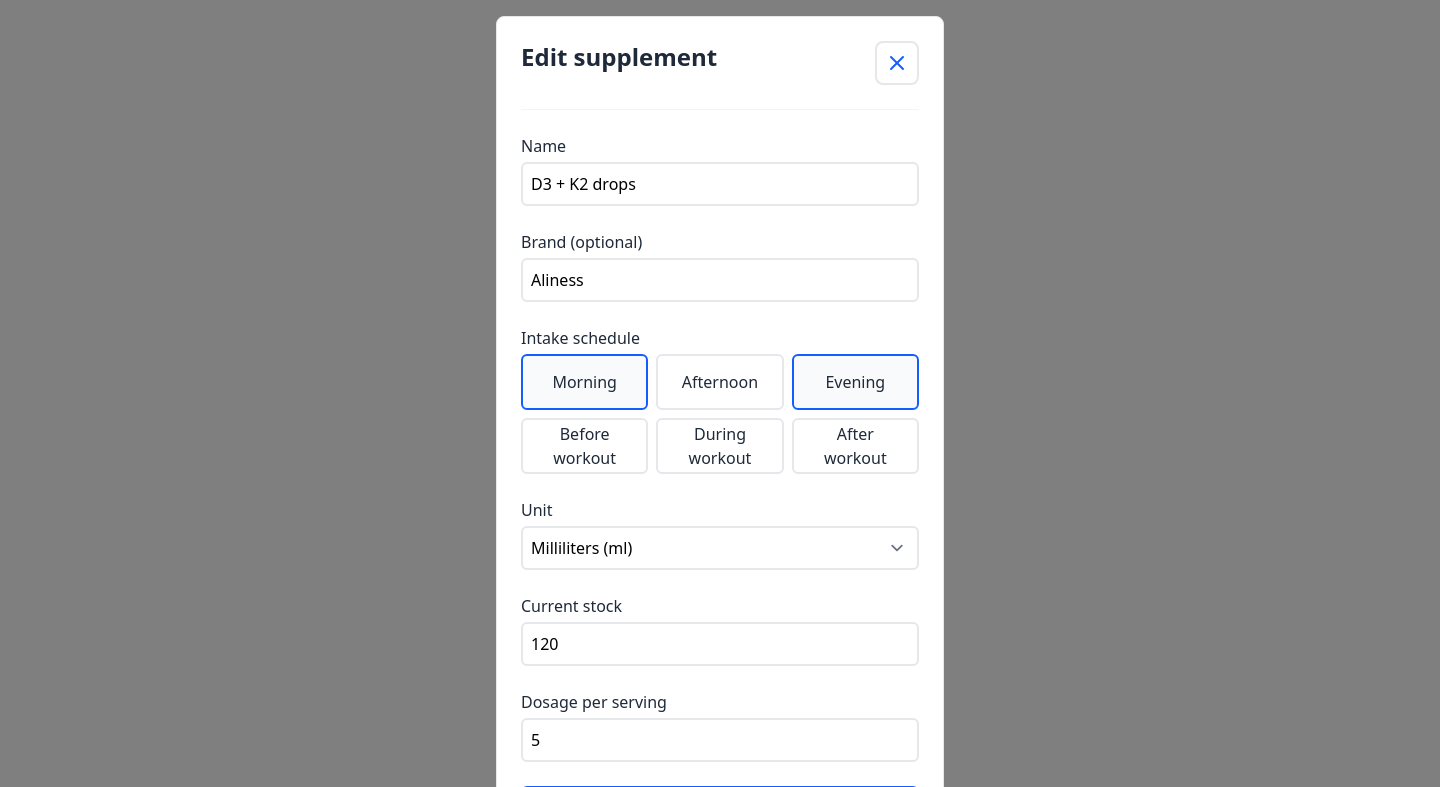
Scenario: SupplementFormModal › displays an error message when submitting with a negative current stock
Note: using fireEvent, because of the min attribue of the input restricts typing it in as a user
Replace the text in the number field labelled "Current stock" with "-10". click: (720, 644)
box: [521,622,919,666]
(page scrolled)
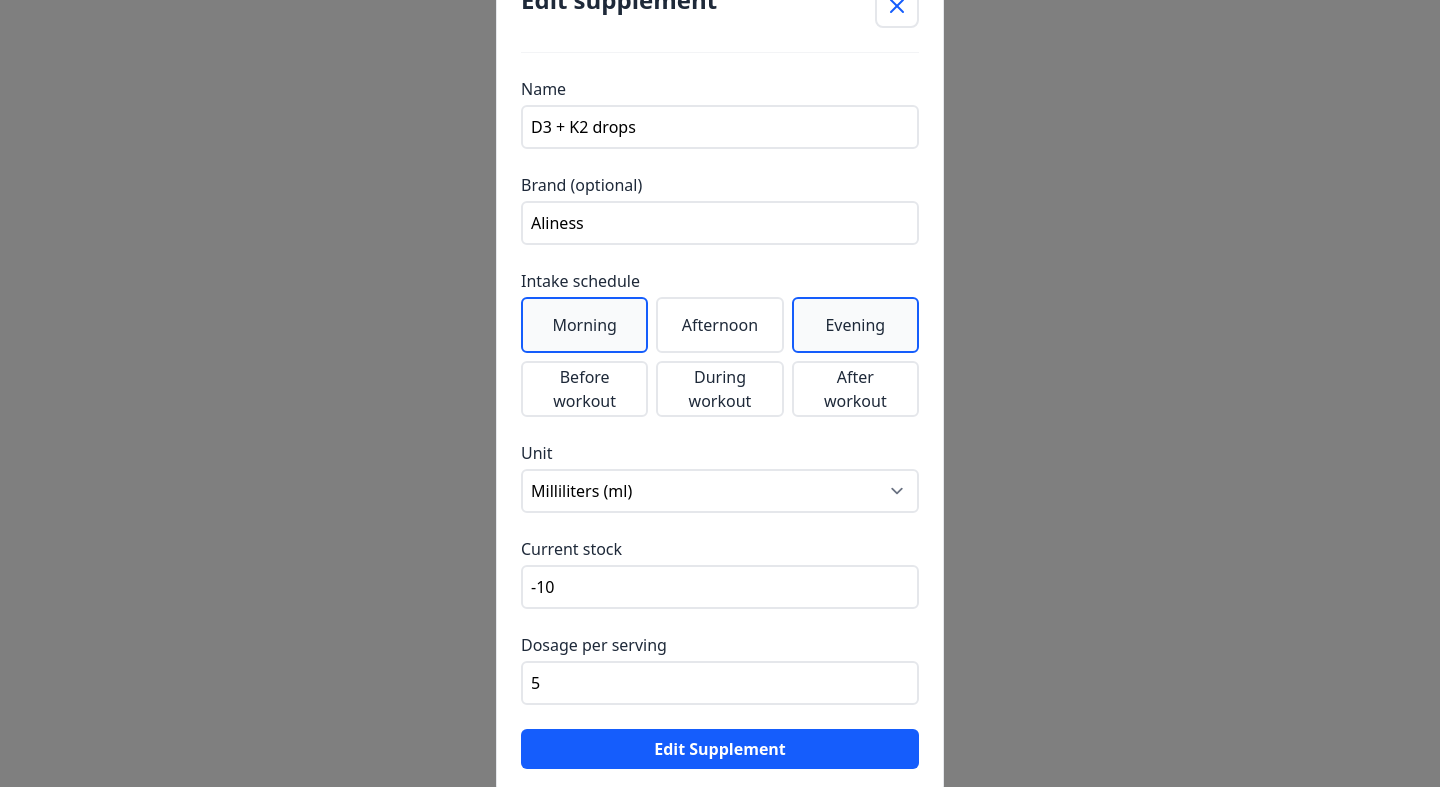
Submit the form named "current stock", box [521,77,919,769]
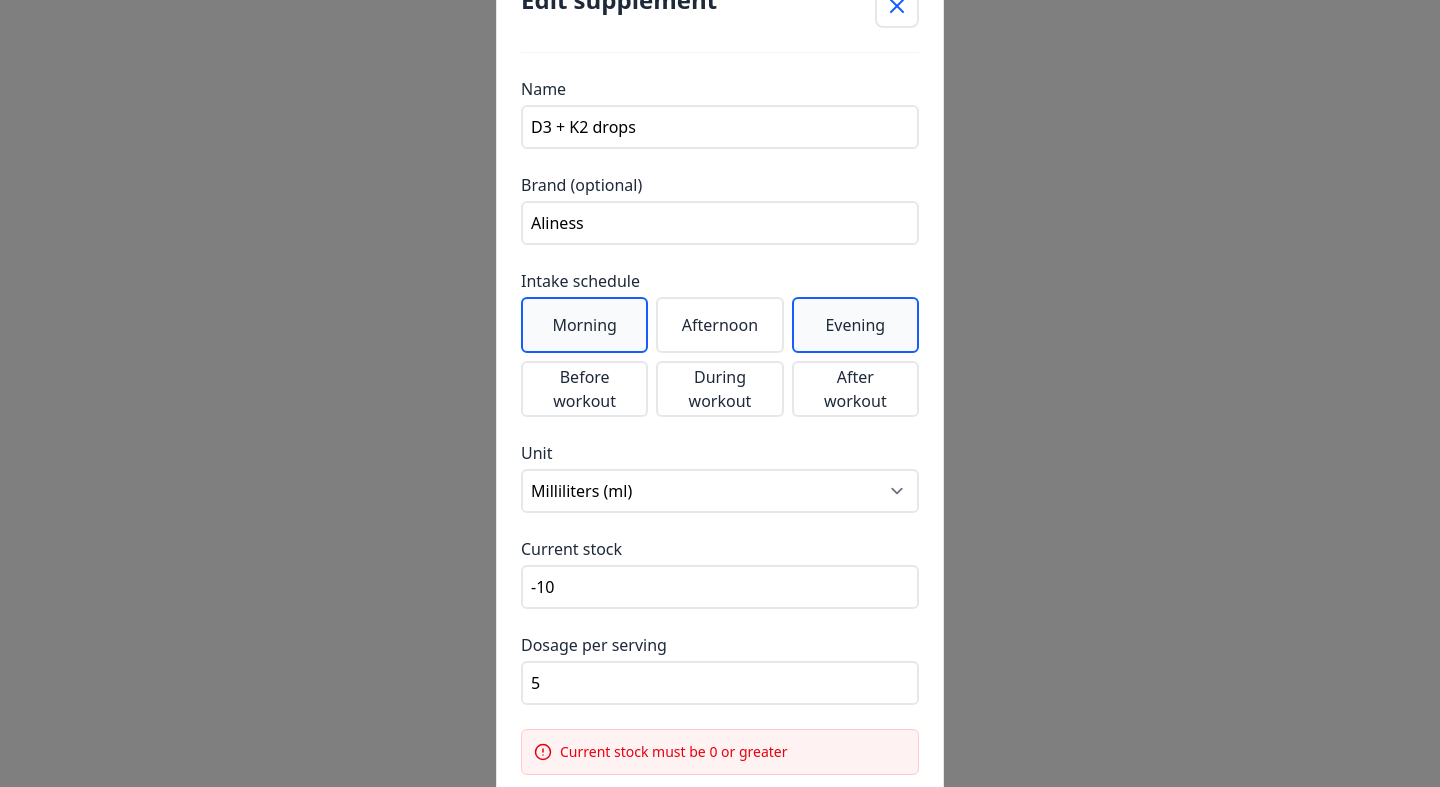
Result: the text "Current stock must be 0 or greater" is shown at [560,742,788,762]
